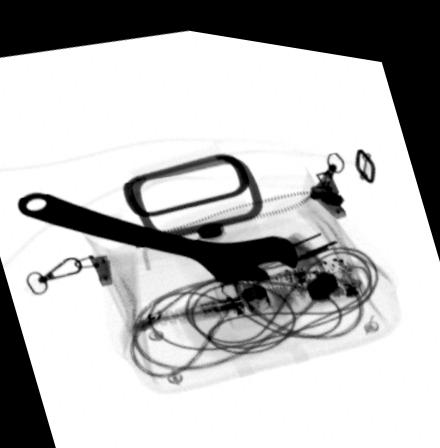Wrench: (15, 188, 300, 279)
